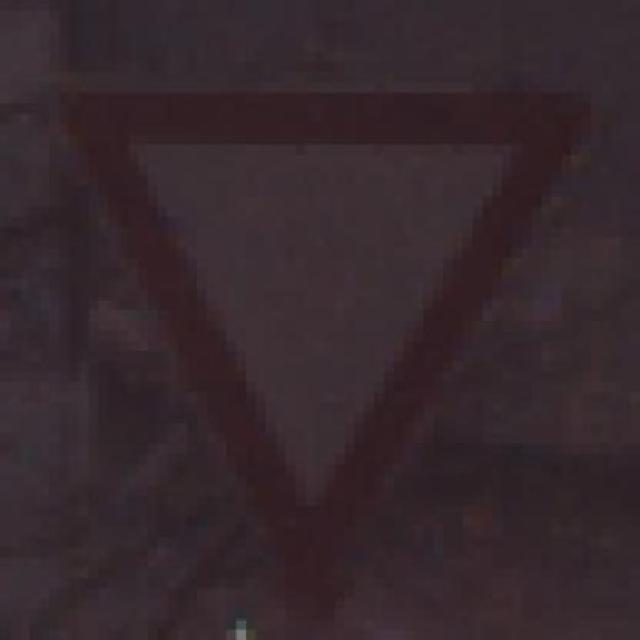Give Way: (39, 52, 610, 619)
